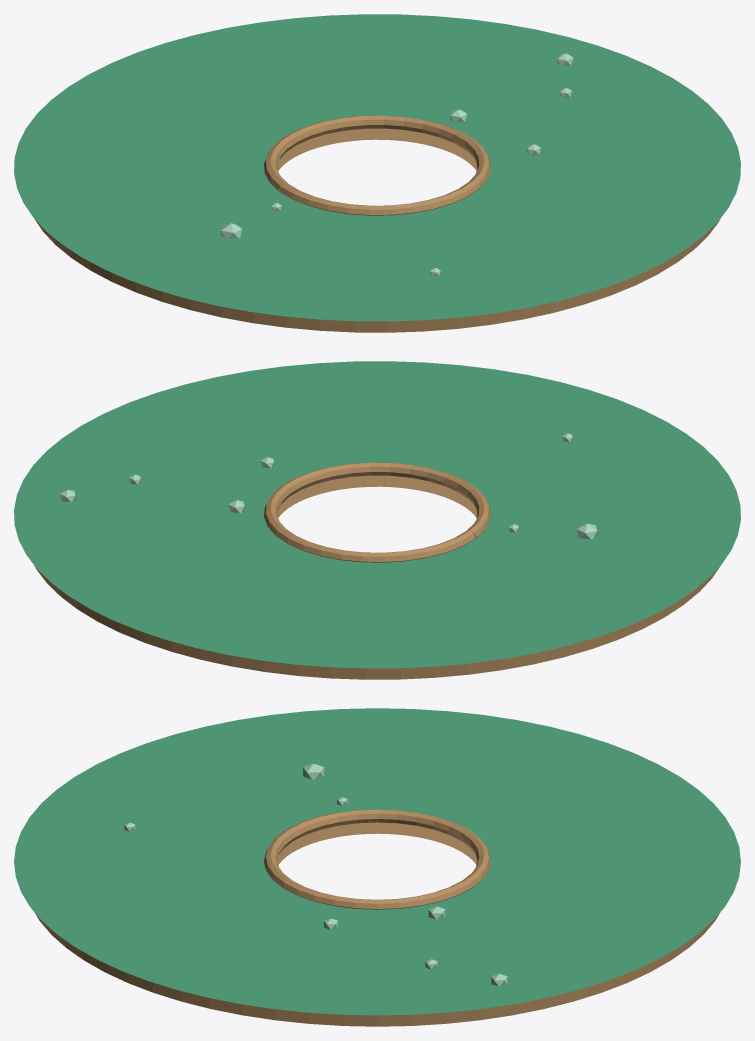
The model's file is goo_jar_deck_4.fbx.
The picture shows the model from 3 angles, top to bottom: view 1: azimuth 30°, elevation 25°; view 2: azimuth 150°, elevation 25°; view 3: azimuth 270°, elevation 25°; orthographic projection.
Visible parts, largest first — view 1: goo_jar_deck_4; view 2: goo_jar_deck_4; view 3: goo_jar_deck_4.
Part boxes in pixels (<box>): goo_jar_deck_4: <box>14,14,740,332</box>; goo_jar_deck_4: <box>14,361,740,679</box>; goo_jar_deck_4: <box>14,708,740,1026</box>.
Bounding box in the file's own units: 42.2 × 1.73 × 42.2.
